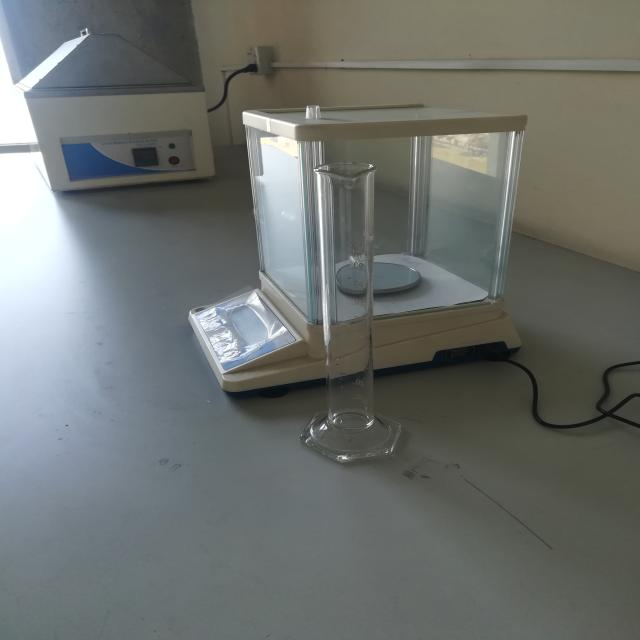Measuring_Cylinder: (265, 113, 435, 489)
